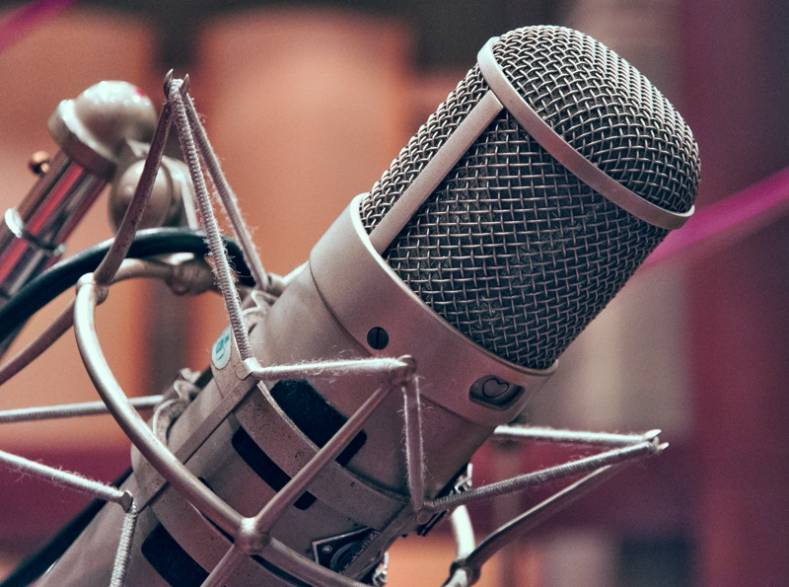microphone: (1, 22, 705, 587)
